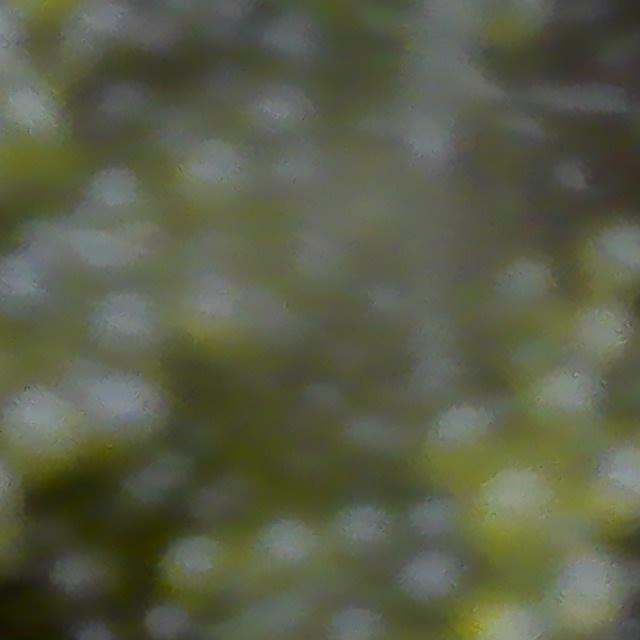SeaGrape: (451, 435, 576, 569), (542, 544, 635, 640), (0, 386, 85, 474), (332, 395, 422, 474), (246, 512, 331, 593), (174, 133, 256, 216), (158, 529, 243, 608), (86, 284, 164, 364), (419, 396, 495, 473), (392, 543, 466, 617), (522, 363, 598, 433), (582, 217, 640, 294), (568, 299, 634, 365), (404, 491, 466, 546), (325, 602, 388, 640), (142, 597, 197, 640)
